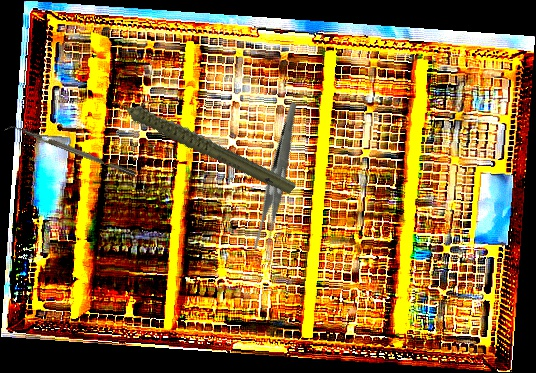Chopper: (3, 120, 137, 184)
Dressing Forceps: (216, 101, 342, 257)
Handpiece: (101, 51, 298, 229)
